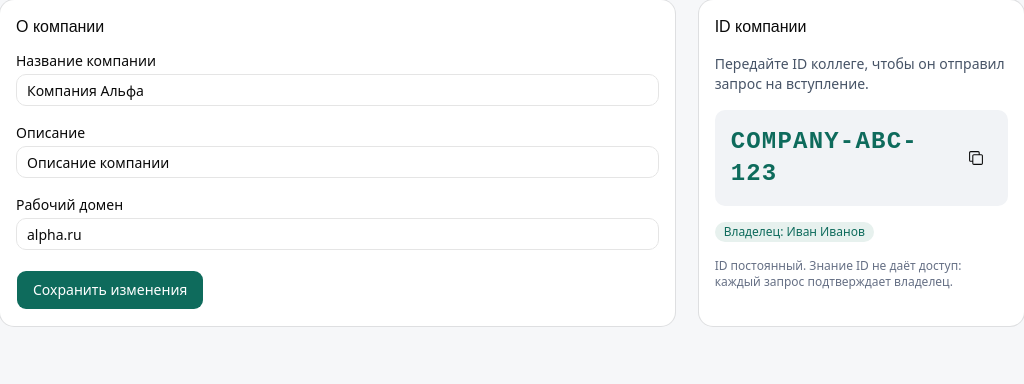
Test: CompanyProfileCard › показывает сообщение об успешном сохранении
Click the button "Сохранить изменения": [110, 290] box [16,270,204,310]
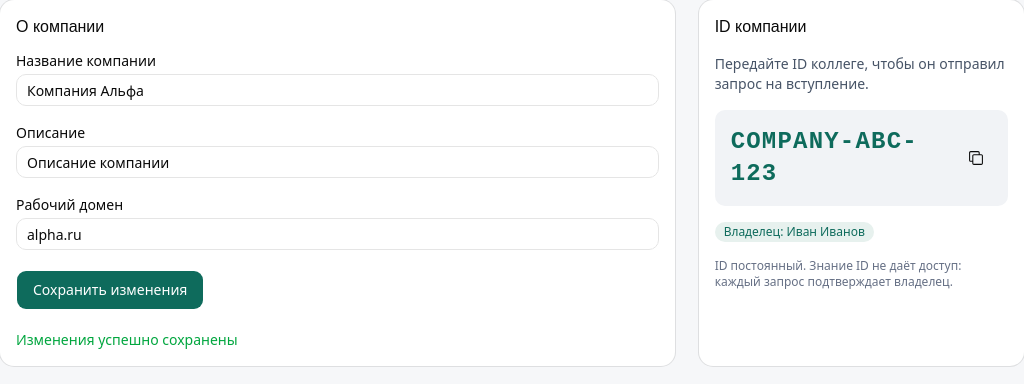
Check: the text "Изменения успешно сохранены" is shown, box [16,330,238,349]
